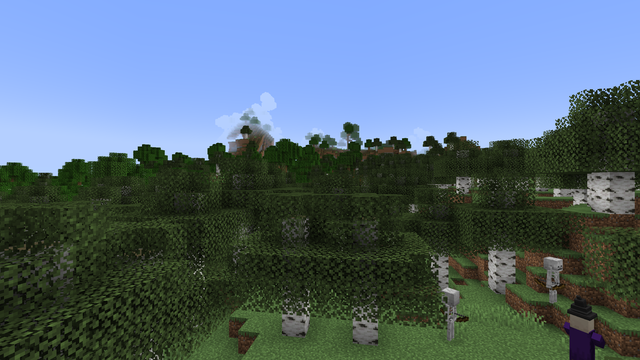sorcieres: (565, 307, 599, 358)
squelettes: (541, 256, 565, 305), (440, 287, 460, 343)
